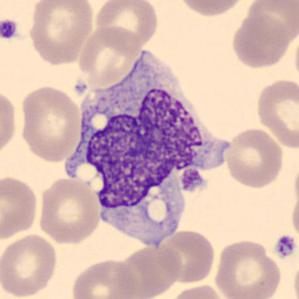Monocyte: (54, 40, 232, 244)
Platelets: (178, 167, 207, 194), (272, 232, 298, 260), (0, 17, 19, 41), (72, 80, 88, 96)
RBC: (17, 83, 84, 164), (26, 0, 96, 66), (36, 176, 102, 246), (213, 237, 283, 299), (76, 23, 143, 87), (117, 240, 185, 299), (222, 126, 285, 189), (0, 232, 59, 298), (229, 12, 293, 70), (92, 0, 160, 51), (156, 228, 217, 284), (254, 76, 299, 150), (69, 257, 140, 299), (0, 173, 40, 241), (245, 0, 298, 47), (0, 86, 19, 159), (175, 0, 250, 18), (166, 283, 228, 299), (289, 191, 299, 244), (293, 26, 299, 87), (291, 256, 299, 299)
